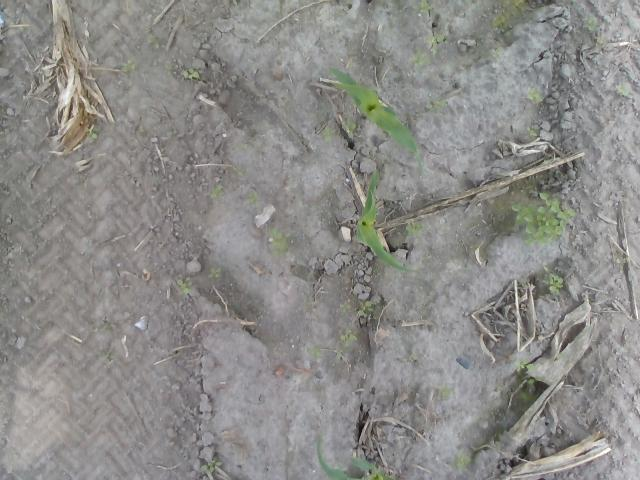Maize: (324, 64, 424, 177), (356, 172, 424, 272), (316, 429, 391, 480)
Weeds: (511, 192, 572, 246), (268, 230, 293, 260), (426, 33, 444, 57), (546, 273, 566, 294), (338, 328, 358, 348), (355, 298, 374, 318), (242, 189, 262, 208), (176, 278, 195, 296), (522, 88, 544, 103), (410, 50, 430, 66), (513, 360, 535, 374), (200, 461, 222, 475), (344, 117, 357, 140), (454, 451, 471, 468), (434, 382, 450, 399), (320, 125, 334, 144), (306, 343, 322, 359), (100, 350, 115, 366), (586, 20, 602, 35), (118, 60, 135, 74), (426, 100, 446, 111), (146, 33, 160, 48), (618, 84, 632, 99), (414, 2, 432, 13), (90, 127, 102, 142), (208, 268, 222, 280), (616, 251, 628, 264), (183, 71, 200, 80), (492, 47, 505, 58), (98, 323, 111, 334), (339, 301, 352, 312), (212, 184, 222, 198), (524, 377, 536, 388), (238, 142, 252, 151), (526, 127, 536, 137), (236, 165, 245, 174), (556, 354, 560, 363)
